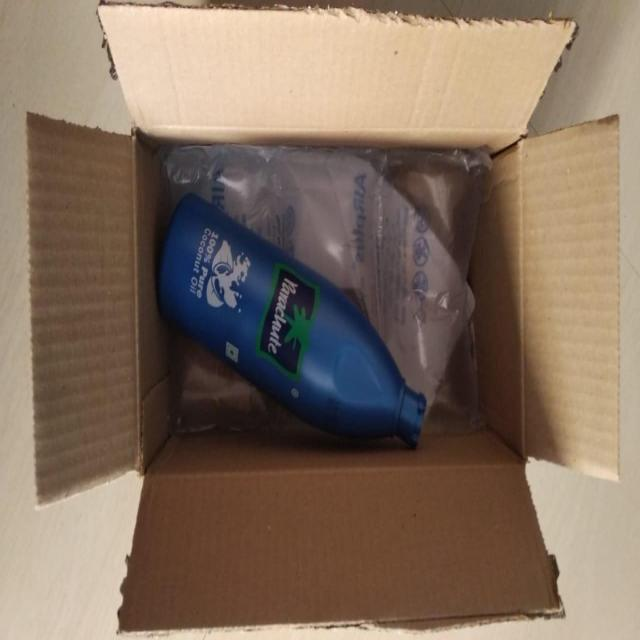parachute_oil: (157, 176, 434, 454)
